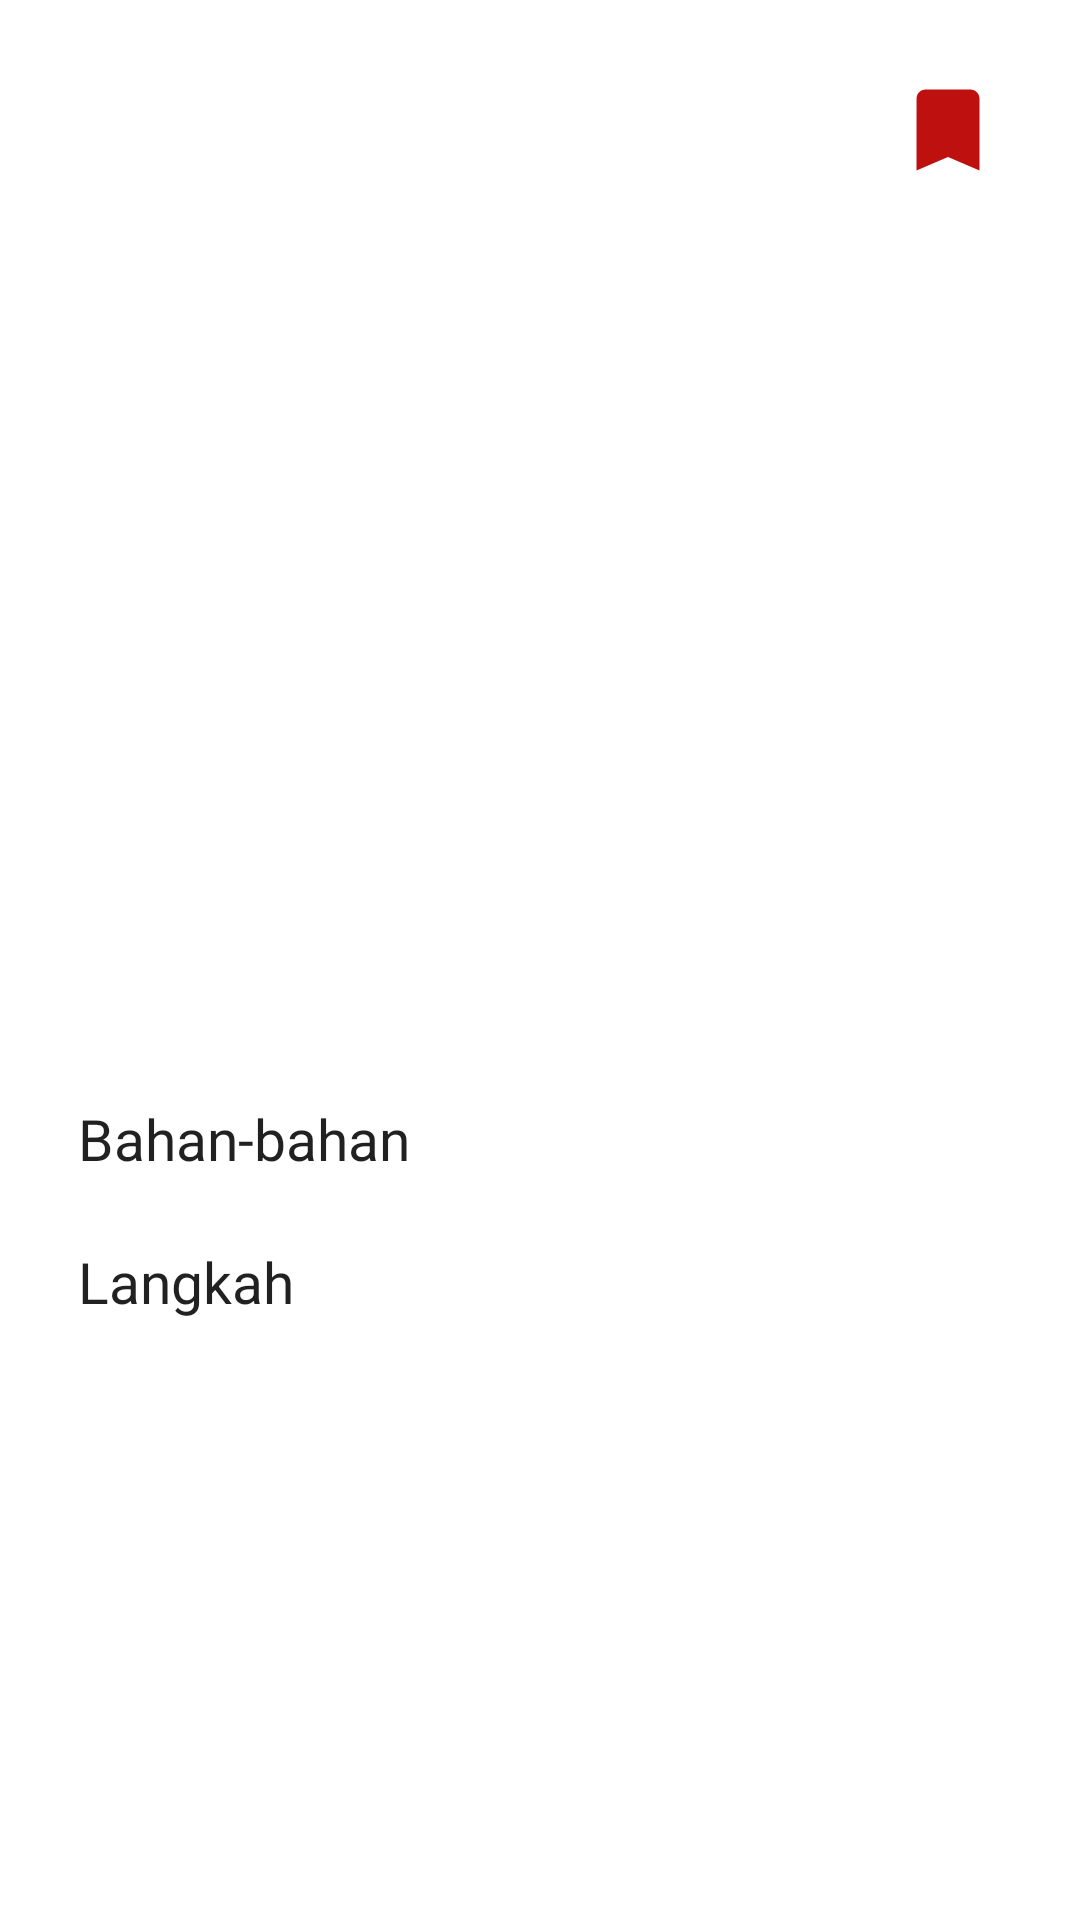

Screen size 1080px x 1920px. Icon name, then its box in pixels as (x1, y1, x2, y2):
saved: (916, 89, 980, 171)
